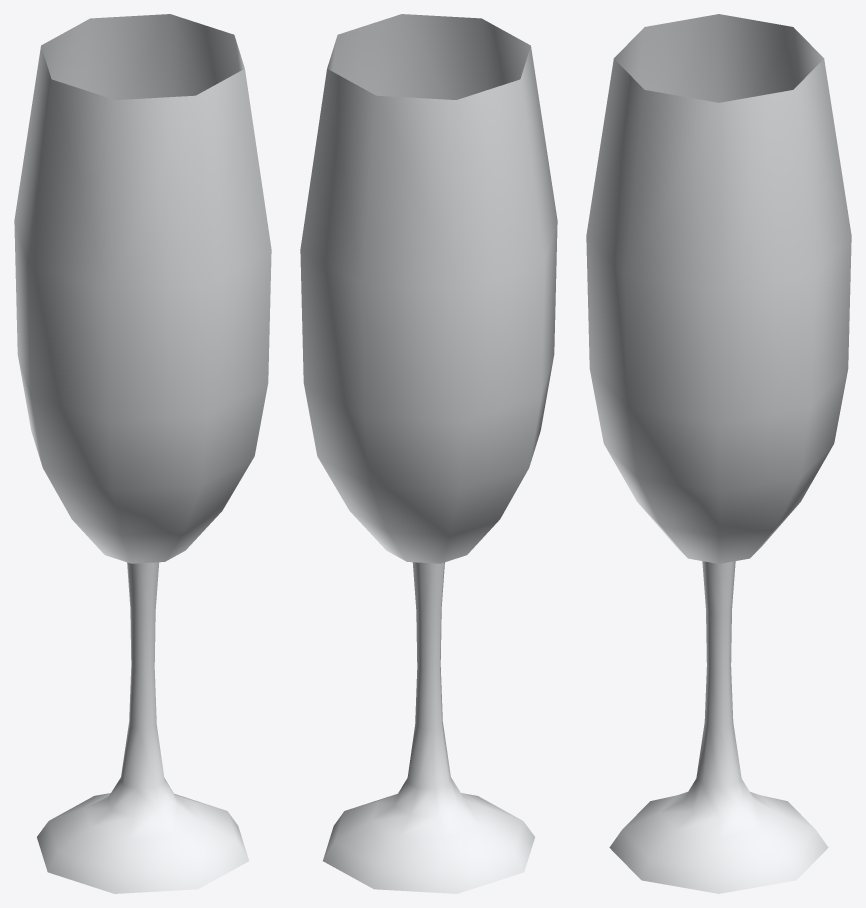
File: cooking_assets_champagne_flute.glb
3 views of the same model, side by side, from view 1: azimuth 30°, elevation 25°; view 2: azimuth 150°, elevation 25°; view 3: azimuth 270°, elevation 25° (orthographic).
Parts seen in each view (by area): view 1: sercups_champagne_flute_Cylinder.102; view 2: sercups_champagne_flute_Cylinder.102; view 3: sercups_champagne_flute_Cylinder.102.
Boxes of the visible parts, x1,y1,x2,y2 form: sercups_champagne_flute_Cylinder.102: (14, 14, 271, 893); sercups_champagne_flute_Cylinder.102: (300, 14, 557, 893); sercups_champagne_flute_Cylinder.102: (586, 14, 851, 893).
Bounding box in the file's own units: 1.32 × 4.33 × 1.32.
1 material, 1 textured.
